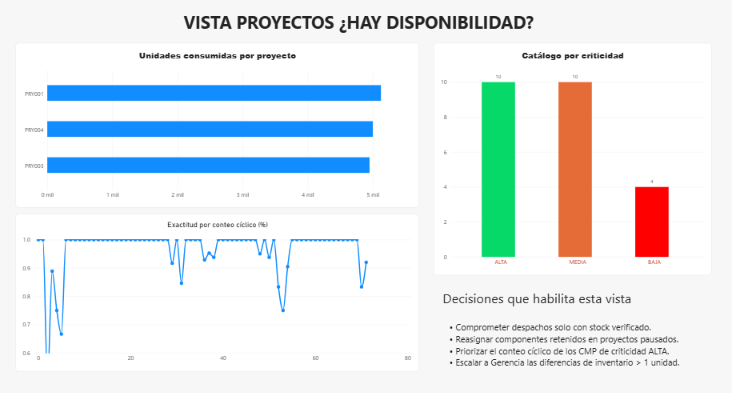

What the dashboard file says about the page in this screenshot:
{"tool":"powerbi","page":{"name":"Proyectos","canvas":[1920,1080],"ordinal":2},"visuals":[{"type":"clusteredBarChart","title":"Unidades consumidas por proyecto","fields":{"Category":["Dim_Proyecto.Codigo_Proyecto"],"Y":["Fact_Movimiento.Unidades_Salidas"]},"box":[102,136,990,404],"z":0},{"type":"clusteredColumnChart","title":"Catálogo por criticidad","fields":{"Category":["Dim_Producto.Criticidad"],"Y":["Fact_Movimiento.N_Componentes"]},"box":[1130,136,682,570],"z":1000},{"type":"lineChart","title":"Exactitud por conteo cíclico (%)","fields":{"Category":["stg_Conteos.Nro_Conteo"],"Y":["Fact_Movimiento.Exactitud_Global"]},"box":[102,556,990,386],"z":2000},{"type":"textbox","box":[1152,740,606,236],"z":3000},{"type":"textbox","box":[516,54,888,74],"z":3001}]}

Visuals, with their boxes on the page's 1920x1080 design canvas (x1, y1, x2, y2). These are canvas units, not pixel positions in the 732x393 screenshot, which may show the page scaled, cropped or inside an application window:
"Unidades consumidas por proyecto" clusteredBarChart: (left=102, top=136, right=1092, bottom=540)
"Catálogo por criticidad" clusteredColumnChart: (left=1130, top=136, right=1812, bottom=706)
"Exactitud por conteo cíclico (%)" lineChart: (left=102, top=556, right=1092, bottom=942)
textbox: (left=1152, top=740, right=1758, bottom=976)
textbox: (left=516, top=54, right=1404, bottom=128)
